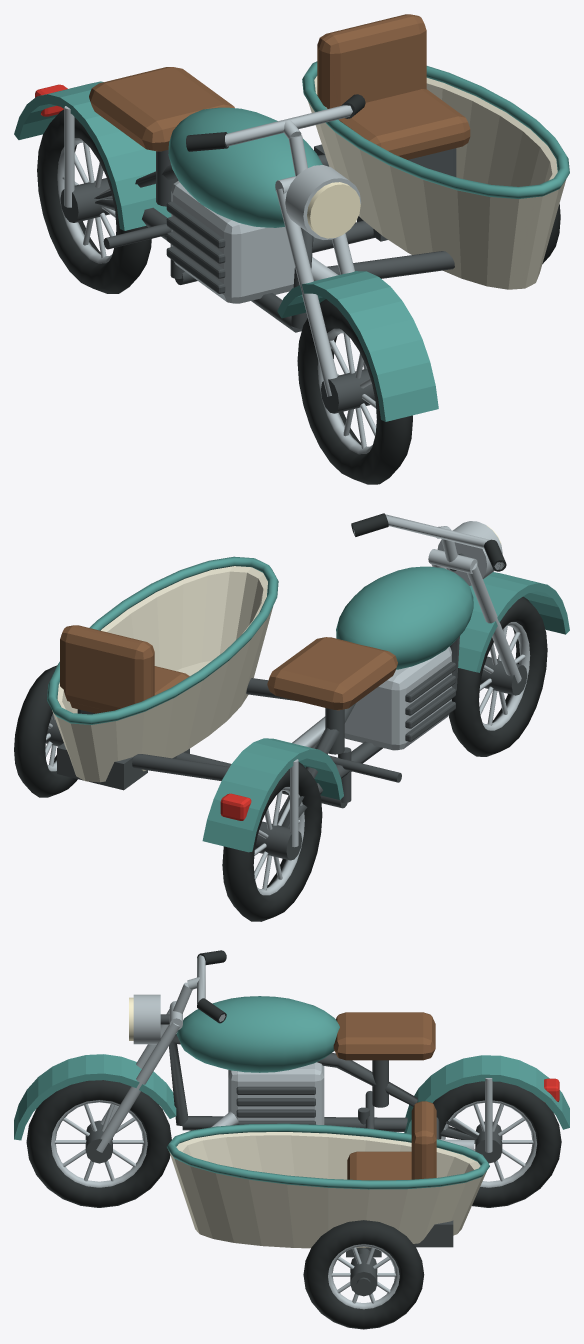
The model's file is motorcycle_sidecar.glb.
The picture shows the model from 3 angles, top to bottom: view 1: azimuth 30°, elevation 25°; view 2: azimuth 150°, elevation 25°; view 3: azimuth 270°, elevation 25°; orthographic projection. The views are drawn at different scales.
Parts seen in each view (by area): view 1: Sidecar thick open passenger body, Motorcycle fuel tank, Motorcycle front painted fender, Sidecar padded backrest, Motorcycle front wheel tire, Motorcycle padded saddle, Motorcycle rear painted fender, Motorcycle rear wheel tire, Motorcycle engine block, Sidecar rounded rim trim, Sidecar padded seat, Motorcycle front fork (+20 smaller); view 2: Sidecar thick open passenger body, Motorcycle fuel tank, Sidecar padded backrest, Motorcycle rear painted fender, Motorcycle padded saddle, Motorcycle front wheel tire, Motorcycle rear wheel tire, Sidecar rounded rim trim, Motorcycle engine block, Motorcycle front painted fender, Sidecar outside wheel tire, Motorcycle main steel frame (+21 smaller); view 3: Sidecar thick open passenger body, Motorcycle fuel tank, Motorcycle front wheel tire, Sidecar outside wheel tire, Sidecar rounded rim trim, Motorcycle rear wheel tire, Motorcycle padded saddle, Motorcycle front painted fender, Motorcycle rear painted fender, Motorcycle main steel frame, Motorcycle engine block, Sidecar padded backrest (+15 smaller).
Part boxes in pixels (x1,y1,x2,y2): Sidecar thick open passenger body: (308, 76, 566, 289); Motorcycle fuel tank: (168, 107, 322, 227); Motorcycle front painted fender: (277, 271, 438, 421); Sidecar padded backrest: (317, 14, 426, 108); Motorcycle front wheel tire: (297, 299, 412, 484); Motorcycle padded saddle: (89, 67, 234, 151); Motorcycle rear painted fender: (14, 81, 171, 230); Motorcycle rear wheel tire: (37, 109, 151, 293); Motorcycle engine block: (171, 181, 294, 303); Sidecar rounded rim trim: (302, 61, 569, 198); Sidecar padded seat: (338, 89, 470, 159); Motorcycle front fork: (276, 188, 337, 396); Sidecar thick open passenger body: (52, 566, 273, 782); Motorcycle fuel tank: (336, 566, 473, 669); Sidecar padded backrest: (60, 625, 154, 711); Motorcycle rear painted fender: (202, 738, 343, 852); Motorcycle padded saddle: (267, 637, 397, 710); Motorcycle front wheel tire: (449, 596, 547, 756); Motorcycle rear wheel tire: (222, 762, 322, 921); Sidecar rounded rim trim: (47, 556, 278, 724); Motorcycle engine block: (344, 646, 451, 750); Motorcycle front painted fender: (458, 572, 569, 672); Sidecar outside wheel tire: (14, 665, 77, 797); Motorcycle main steel frame: (277, 636, 459, 827); Sidecar thick open passenger body: (169, 1132, 486, 1248); Motorcycle fuel tank: (176, 996, 339, 1072); Motorcycle front wheel tire: (26, 1080, 171, 1207); Sidecar outside wheel tire: (303, 1220, 424, 1329); Sidecar rounded rim trim: (167, 1123, 489, 1189); Motorcycle rear wheel tire: (433, 1081, 561, 1207); Motorcycle padded saddle: (333, 1012, 435, 1060); Motorcycle front painted fender: (14, 1054, 176, 1140); Motorcycle rear painted fender: (404, 1055, 569, 1134); Motorcycle main steel frame: (169, 1034, 478, 1142); Motorcycle engine block: (228, 1062, 324, 1124); Sidecar padded backrest: (411, 1101, 436, 1179).
Size of the model in its own units: 1.87 by 1.23 by 2.67.
